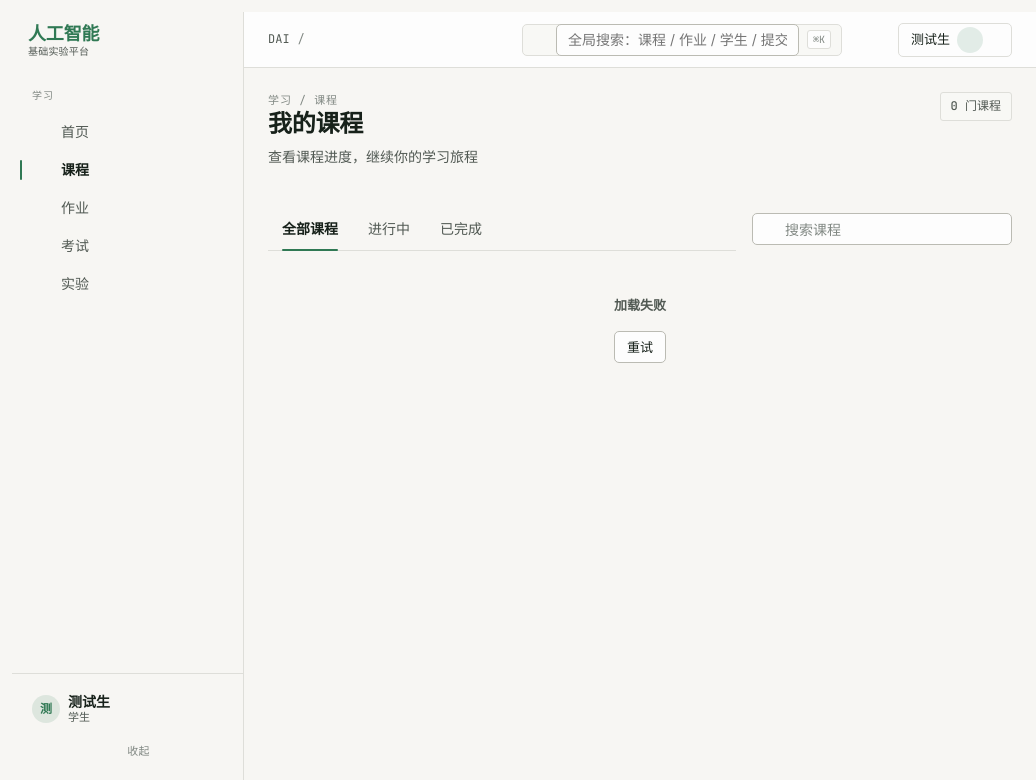
Scenario: 我的课程 CourseListView（参考图 02） › 请求失败展示错误并可重试
Step 1. Click the button with class "retry-btn" → (640, 347), box [614,331,666,363]
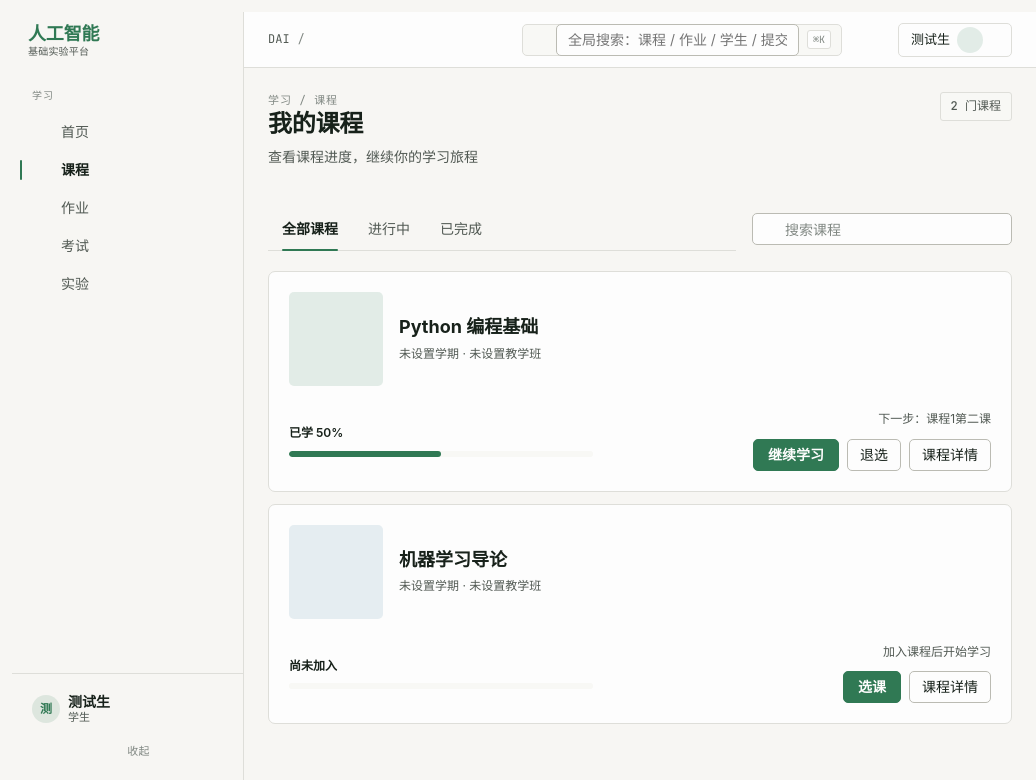
expect the number of elements with class "course-row" is 2: met, box [268,271,1012,492]; [268,504,1012,724]
